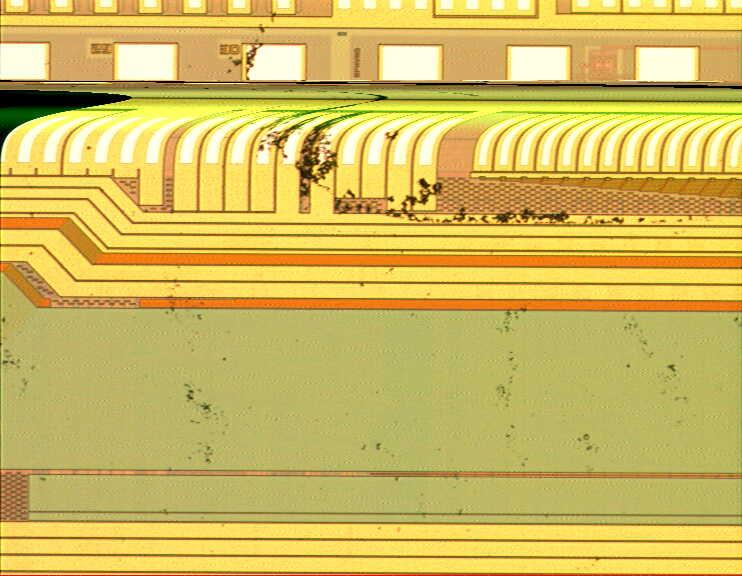PO CONTAMINATION: (1, 8, 742, 571)
